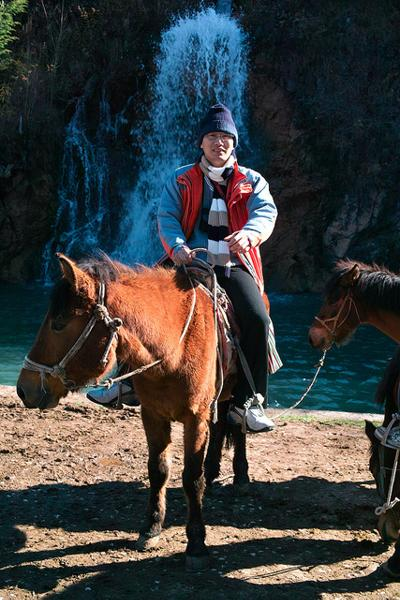person: (86, 101, 283, 437)
